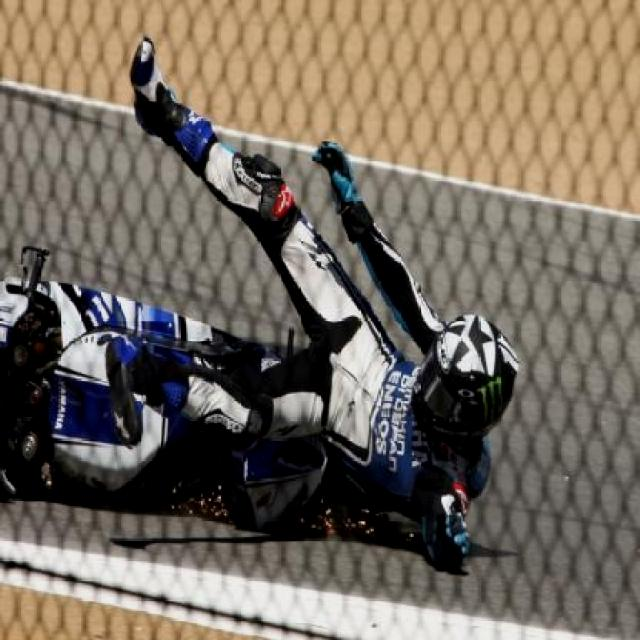Cycle: (4, 240, 447, 542)
